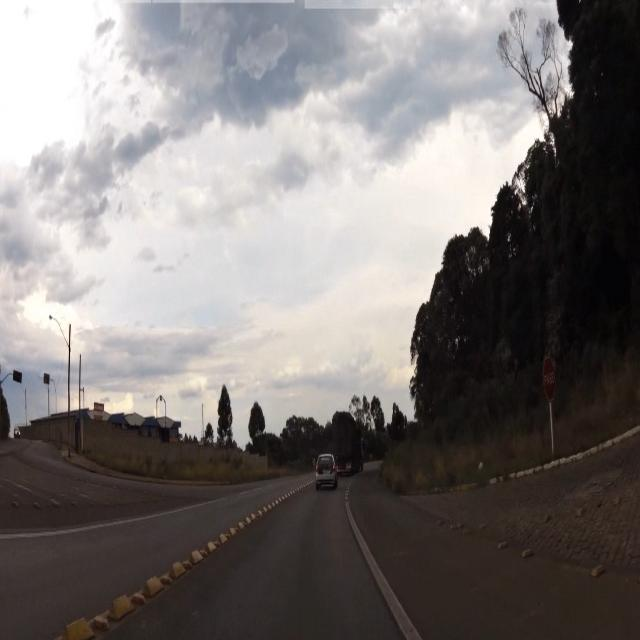R-1: (542, 354, 557, 402)
